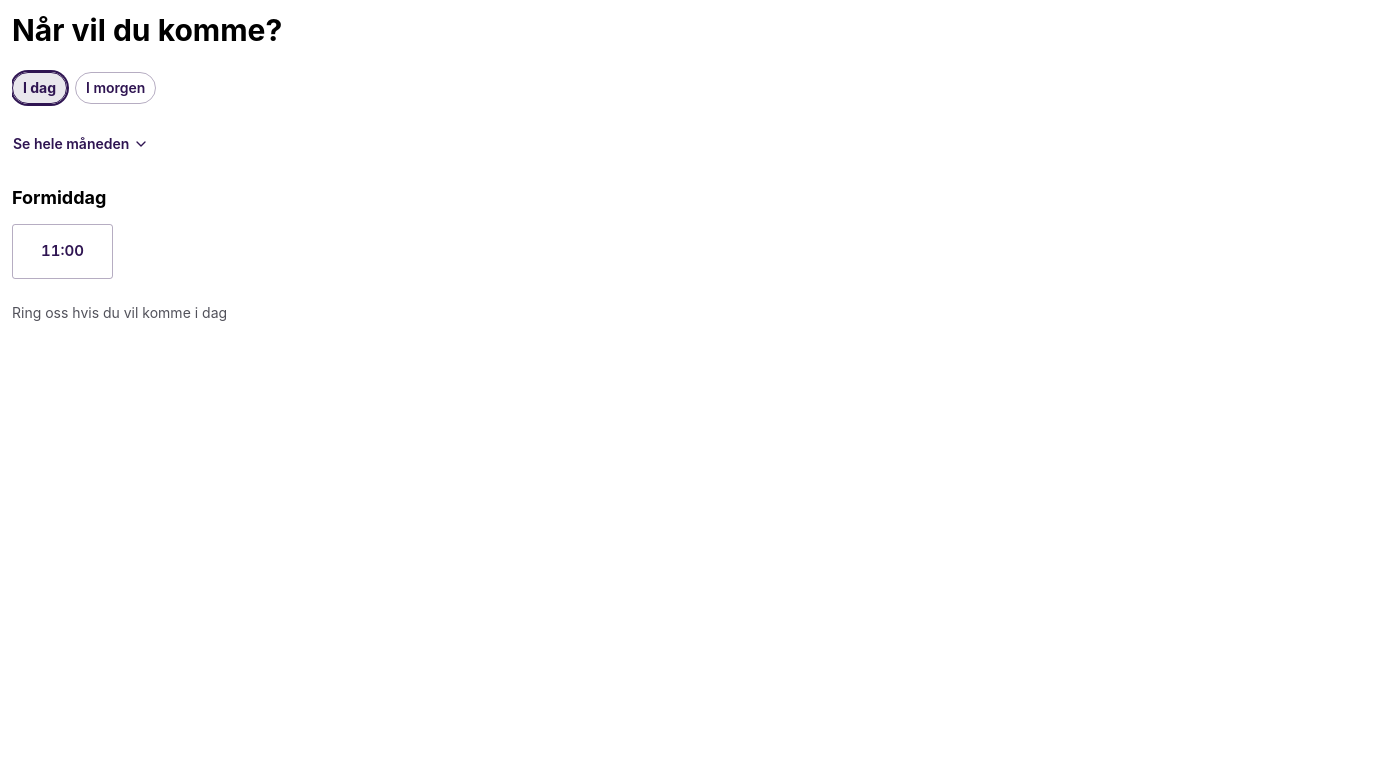
Test case: TimeScreen — a family › the month view › steps a month at a time in both directions
The width and height of the screenshot is (1378, 780).
Click the button "Se hele måneden" at (81, 144), box [12,128,150,160]
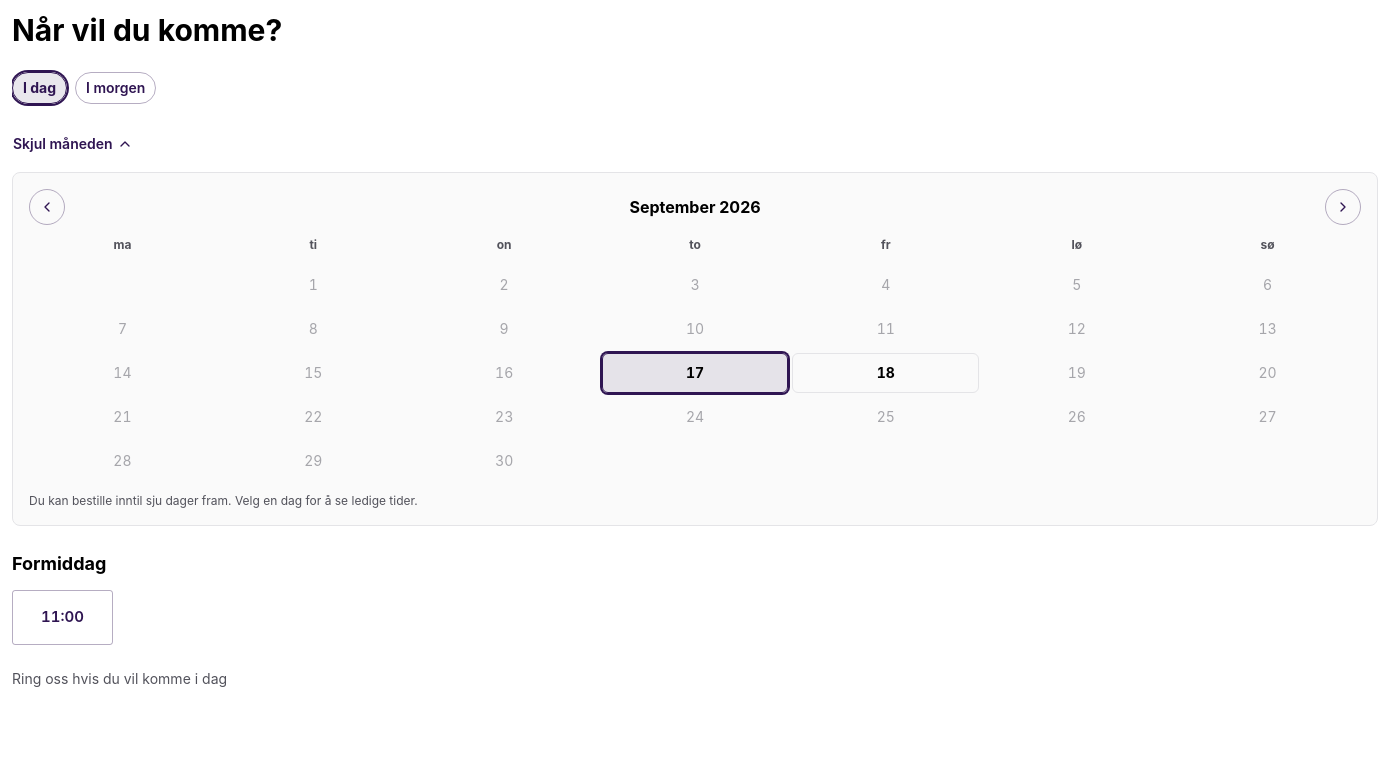
Click the button named "Neste måned" at (1343, 207), box [1325,189,1361,225]
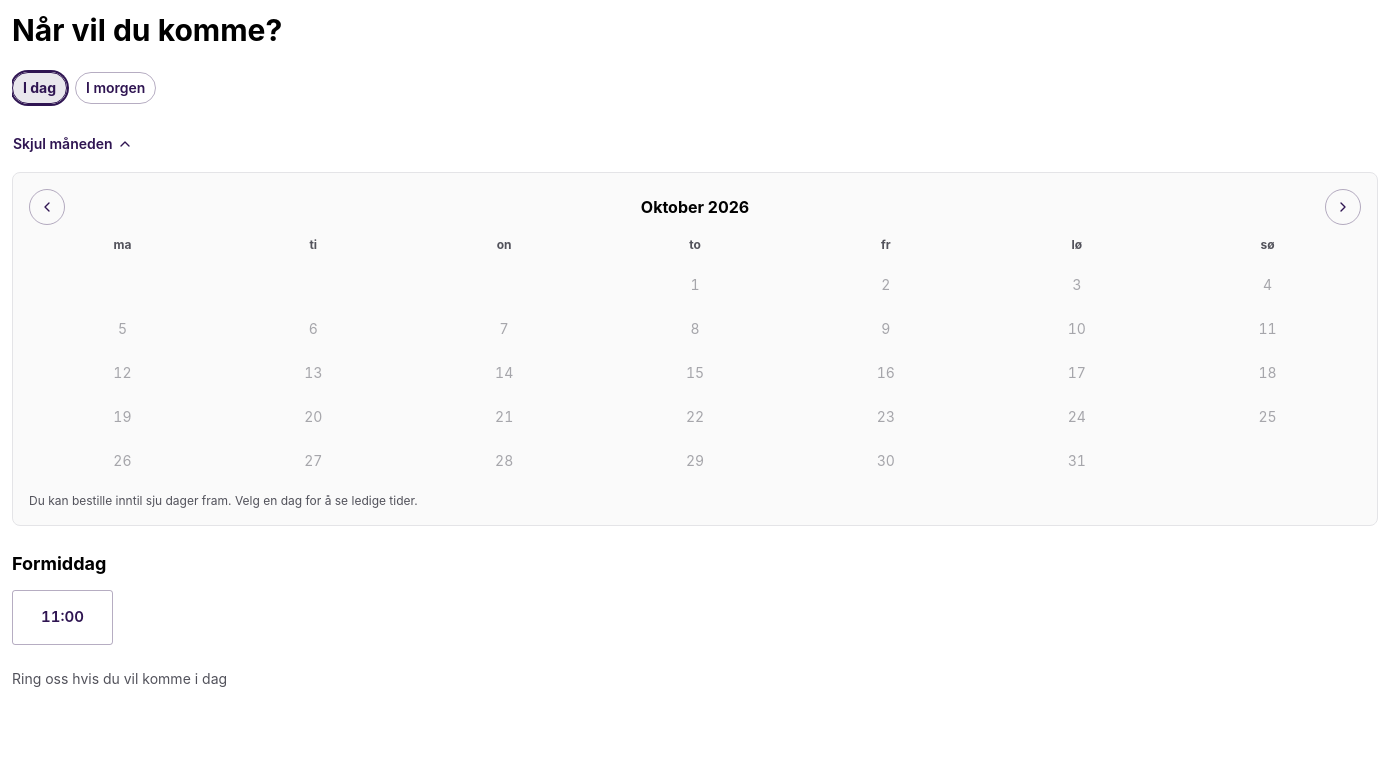
Now the text "Oktober 2026" is shown, box [641,195,749,219]
Click the button named "Forrige måned" at (47, 207), box [29,189,65,225]
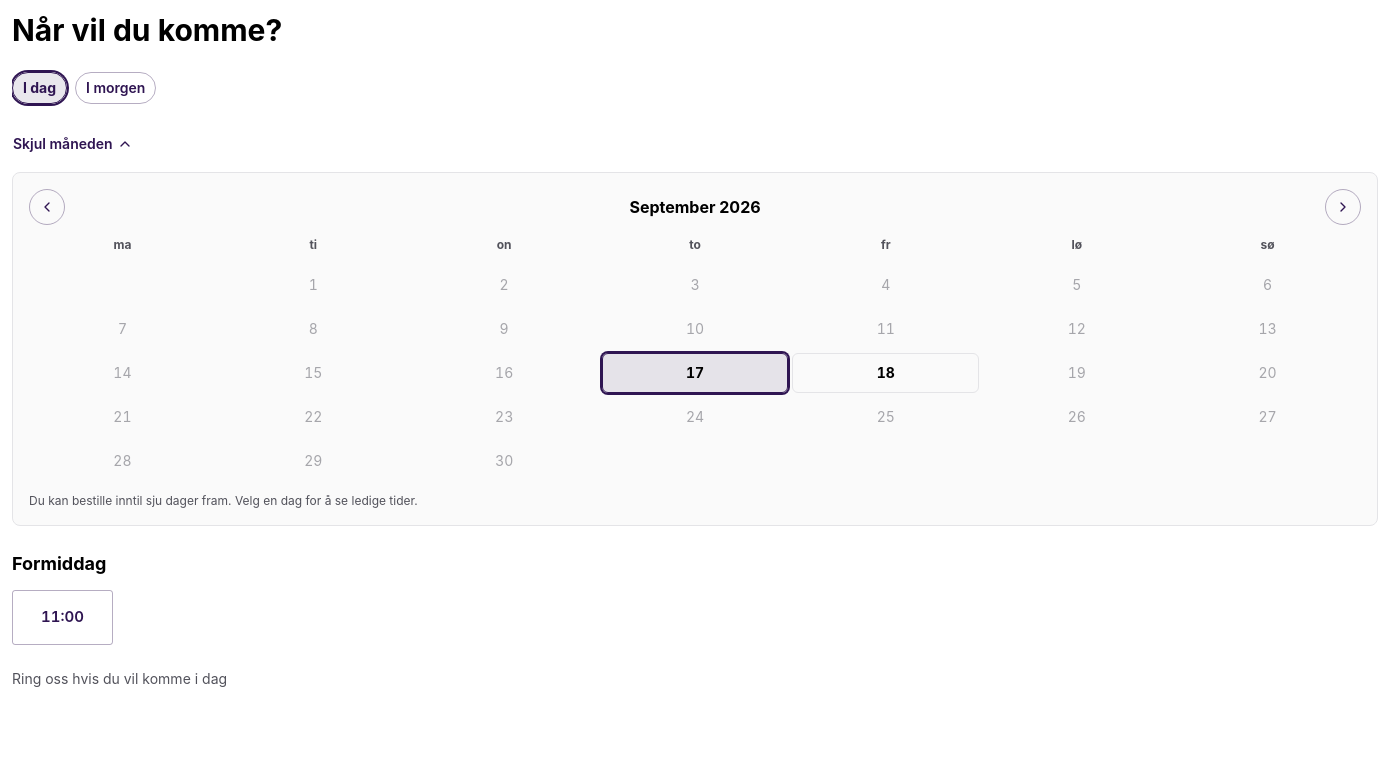
Now the text "September 2026" is shown, box [629,195,761,219]
Click the button named "Forrige måned" at (47, 207), box [29,189,65,225]
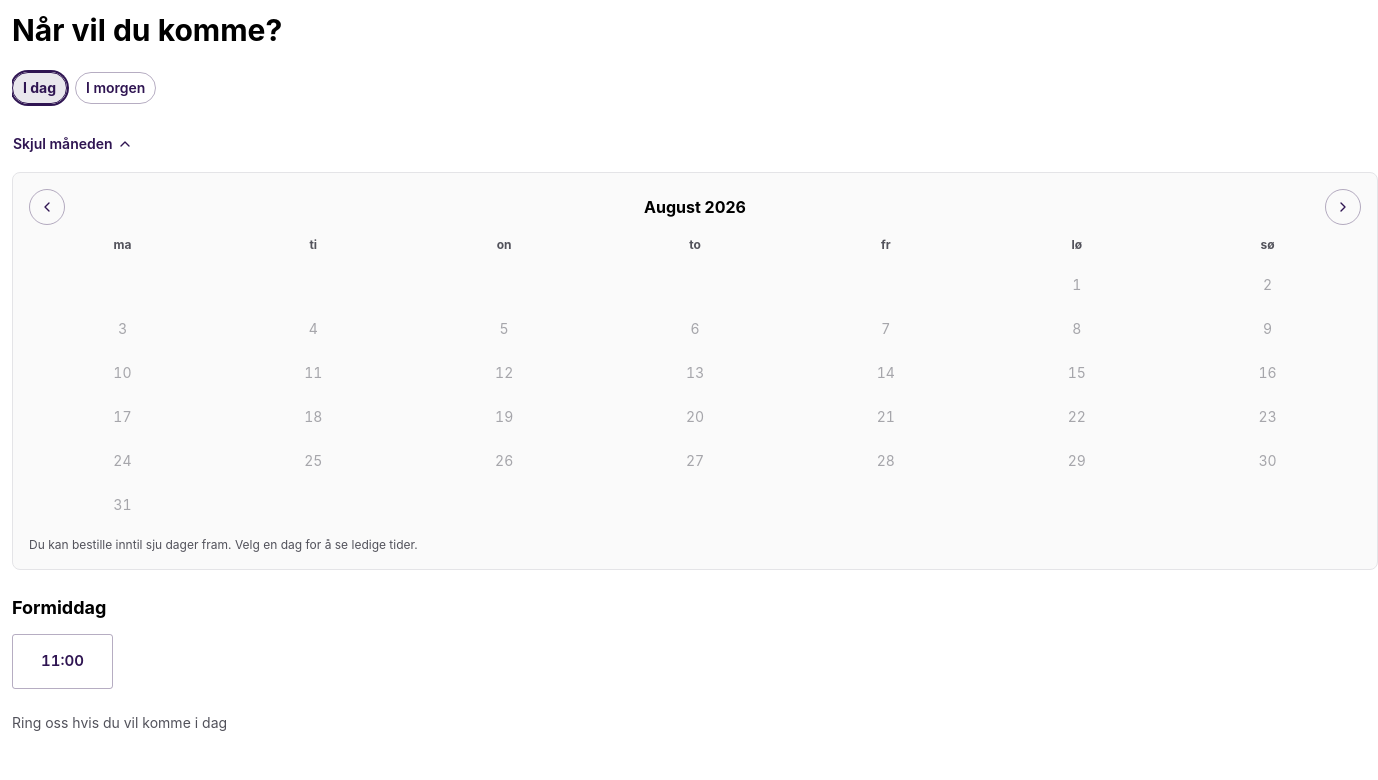
Now the text "August 2026" is shown, box [644,195,746,219]
Click the button named "Forrige måned" at (47, 207), box [29,189,65,225]
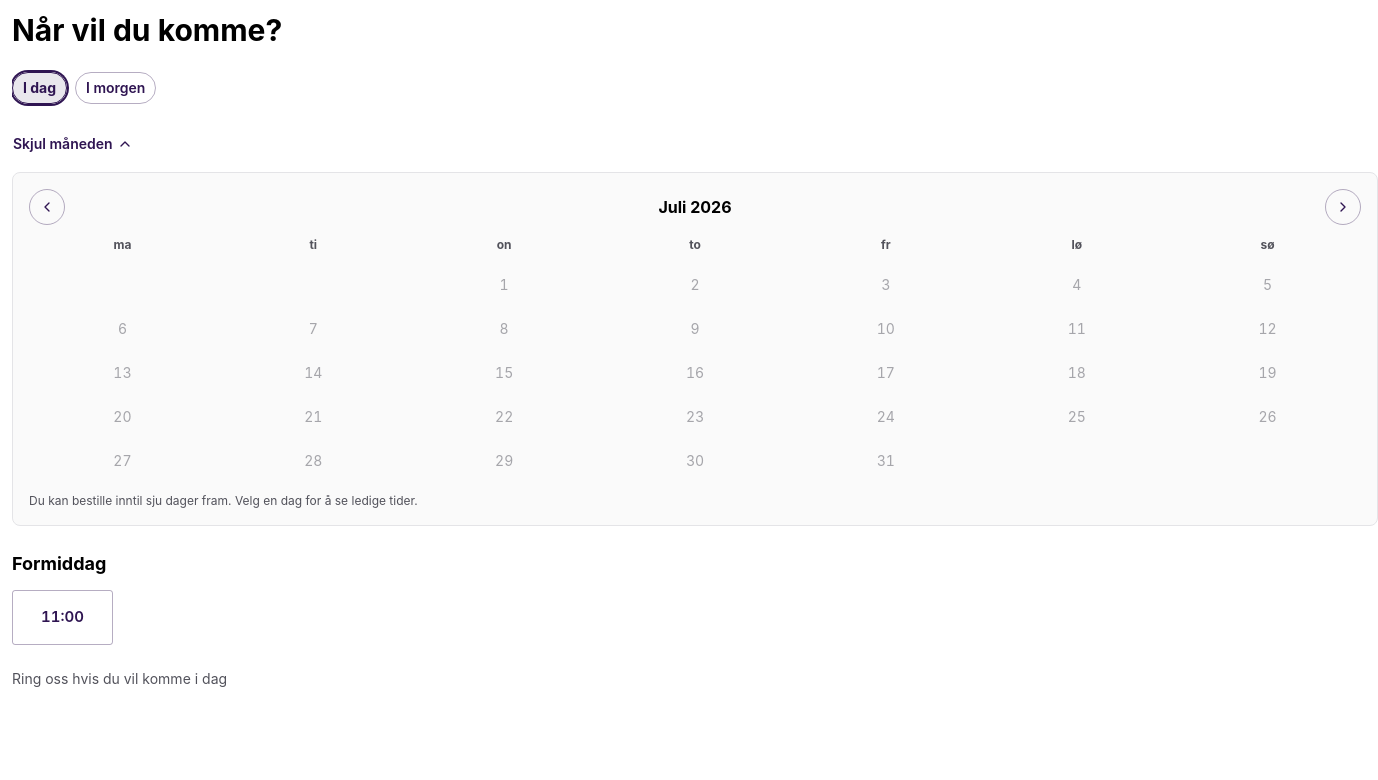
Now the text "Juli 2026" is shown, box [658,195,732,219]
